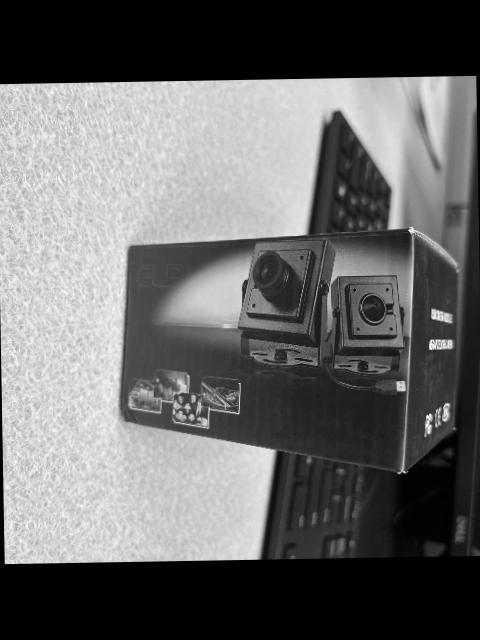CameraBox2: (119, 227, 457, 472)
